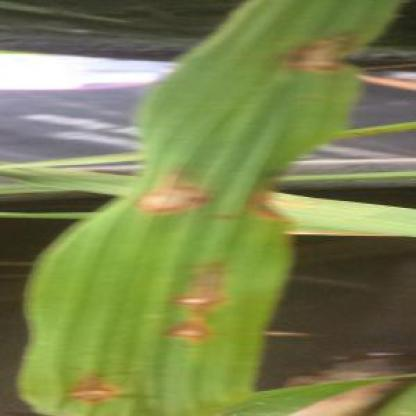Rice blast: (271, 22, 366, 84), (165, 266, 229, 352), (136, 183, 222, 215), (246, 183, 291, 233), (62, 382, 119, 403)
